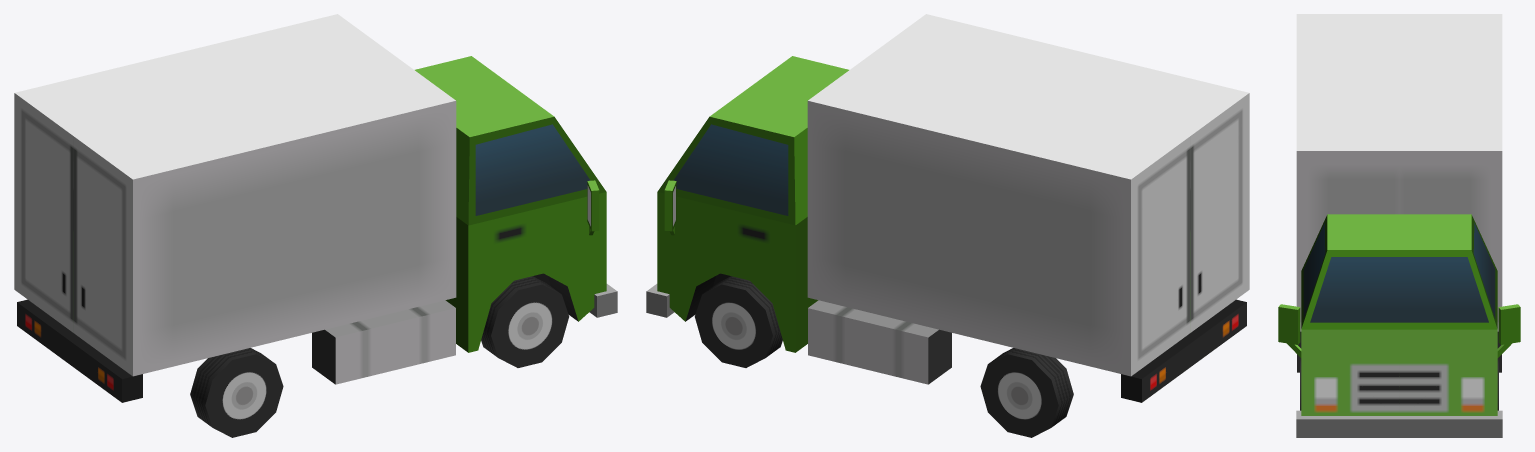
The model's file is Truck_030.glb.
The picture shows the model from 3 angles, left to right: view 1: azimuth 30°, elevation 25°; view 2: azimuth 150°, elevation 25°; view 3: azimuth 270°, elevation 25°; orthographic projection. The views are drawn at different scales.
Parts seen in each view (by area): view 1: Truck_030, wheel_3_Truck_030_Wheel_2R, wheel_1_Truck_030_Wheel_1R; view 2: Truck_030, wheel_2_Truck_030_Wheel_2L, wheel_0_Truck_030_Wheel_1L; view 3: Truck_030.
Boxes of the visible parts, x1,y1,x2,y2 form: Truck_030: (14, 14, 617, 402); wheel_3_Truck_030_Wheel_2R: (190, 348, 283, 437); wheel_1_Truck_030_Wheel_1R: (481, 276, 569, 367); Truck_030: (646, 14, 1249, 402); wheel_2_Truck_030_Wheel_2L: (980, 348, 1073, 437); wheel_0_Truck_030_Wheel_1L: (694, 276, 782, 367); Truck_030: (1278, 14, 1520, 437).
Bounding box in the file's own units: 4.57 × 2.54 × 2.26.
Materials: 1 (1 with a texture image).
